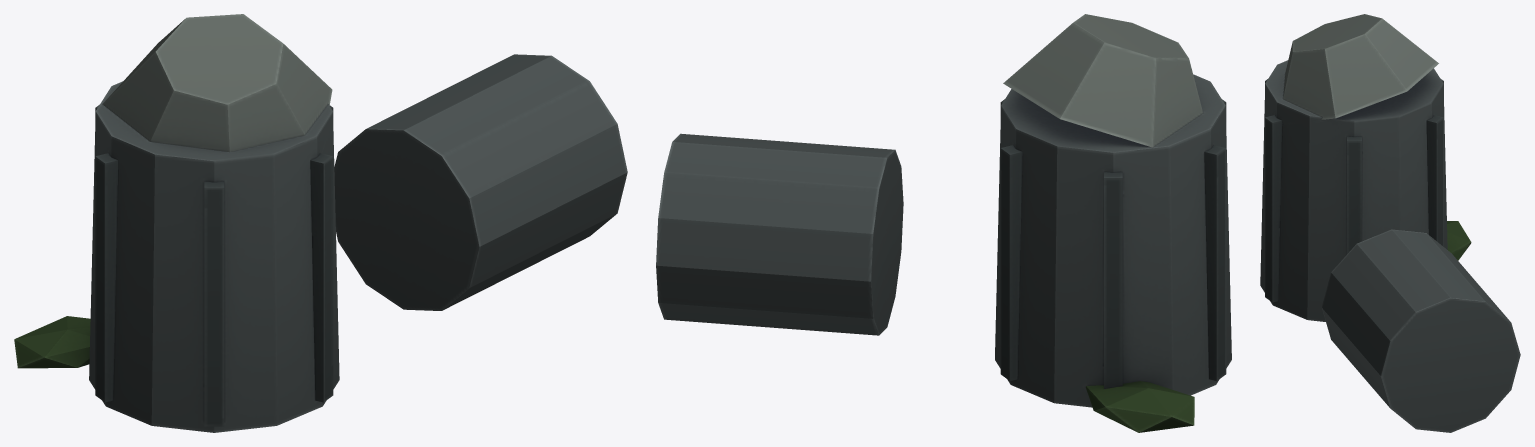
The model's file is sign_ogre_column.glb.
The picture shows the model from 3 angles, left to right: view 1: azimuth 30°, elevation 25°; view 2: azimuth 150°, elevation 25°; view 3: azimuth 270°, elevation 25°; orthographic projection. The views are drawn at different scales.
Visible parts, largest first — view 1: sign_ogre_column; view 2: sign_ogre_column; view 3: sign_ogre_column.
Boxes of the visible parts, x1,y1,x2,y2 form: sign_ogre_column: (14, 14, 627, 432); sign_ogre_column: (656, 14, 1231, 432); sign_ogre_column: (1260, 14, 1520, 432).
Bounding box in the file's own units: 2 × 1.19 × 1.05.
Materials: 1 (1 with a texture image).
